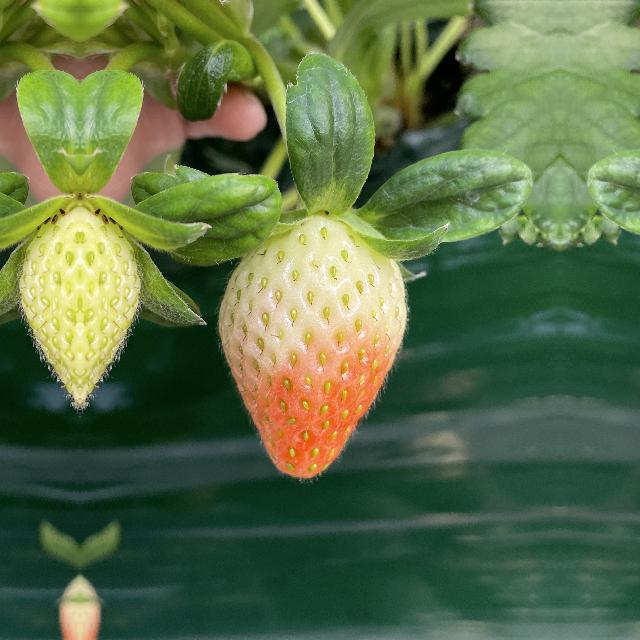Health_25: (80, 208, 146, 408), (14, 208, 80, 408)
Health_75: (215, 204, 413, 481)
